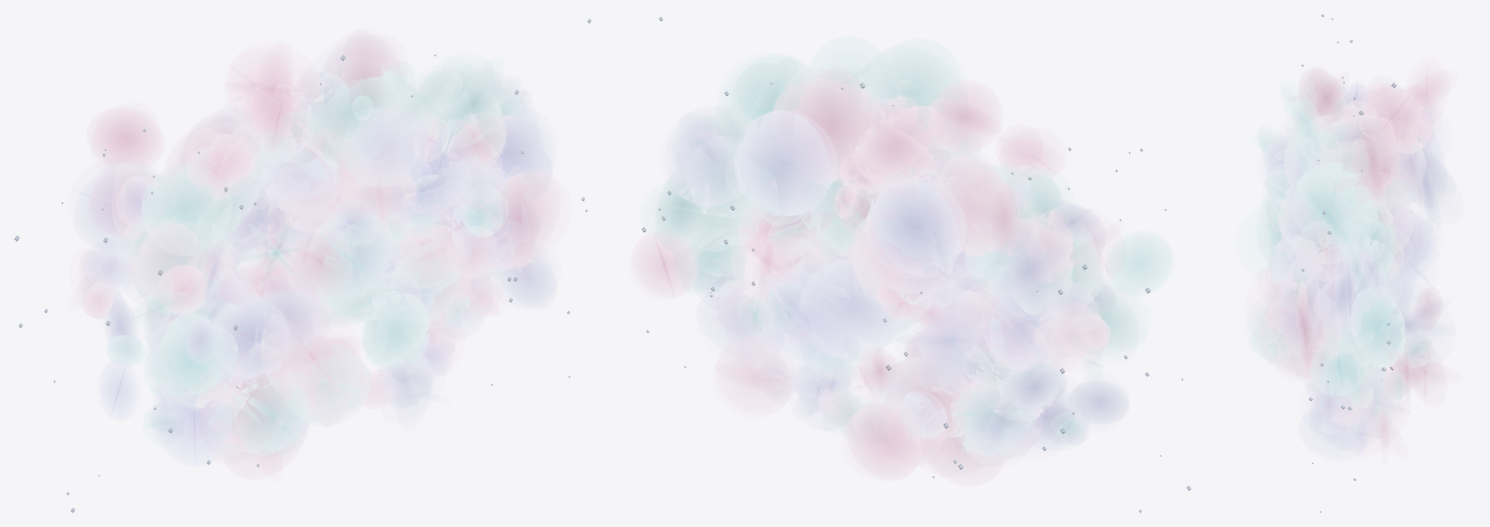
3 renders of one model, left to right at view 1: azimuth 30°, elevation 25°; view 2: azimuth 150°, elevation 25°; view 3: azimuth 270°, elevation 25°, orthographic. The views are drawn at different scales.
Size of the model in its own units: 5.92 by 4.74 by 2.75.
